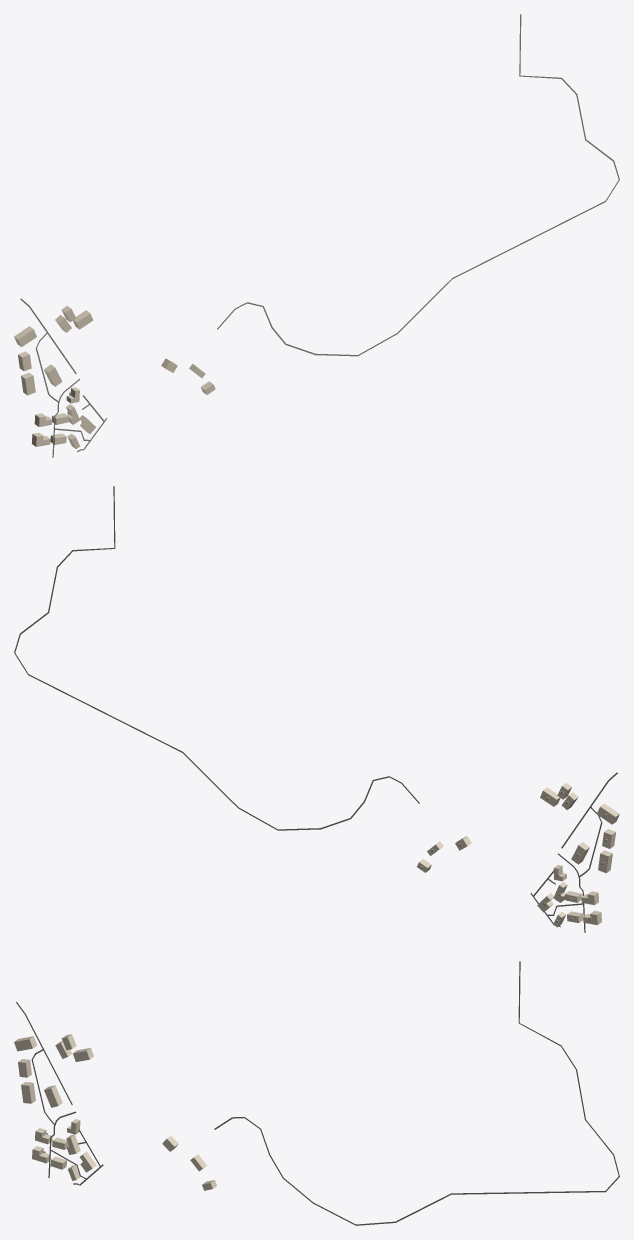
Rendered from historic-palestine-13_29_3554_3232.glb.
The picture shows the model from 3 angles, top to bottom: view 1: azimuth 30°, elevation 25°; view 2: azimuth 150°, elevation 25°; view 3: azimuth 330°, elevation 25°; orthographic projection.
Visible parts, largest first — view 1: Road; view 2: Road; view 3: Road.
Part boxes in pixels (x1,y1,x2,y2): Road: (217,14,619,356); Road: (14,486,419,830); Road: (214,961,619,1225).
Bounding box in the file's own units: 605 × 317 × 8.7.
